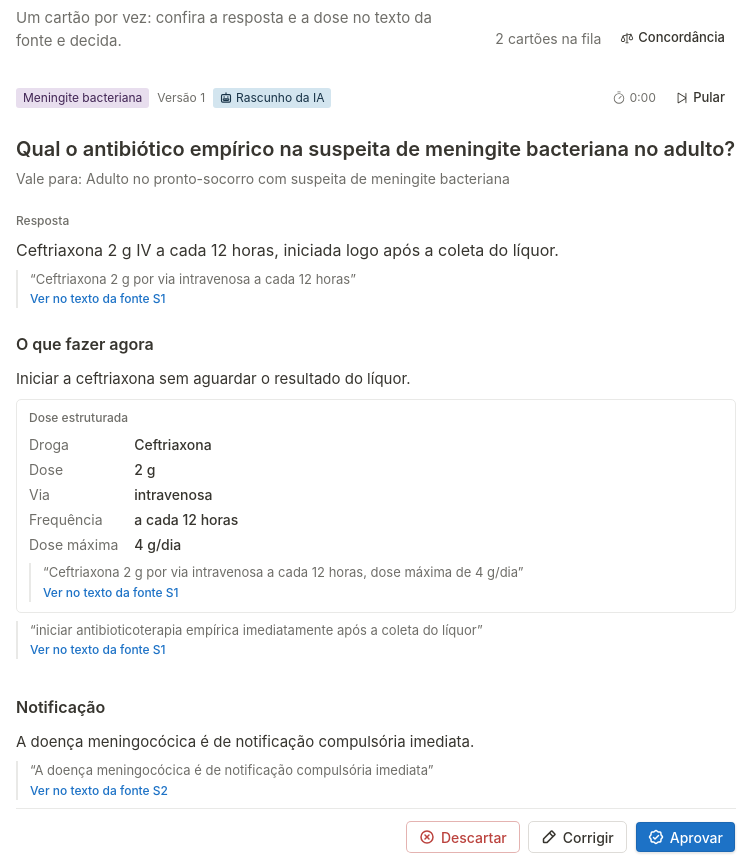
Test: Revisão de cartões (CC-404) › avisa quando o texto da fonte mudou depois da citação
This screenshot has width=753, height=865.
Click the button "Ver no texto da fonte S2".
click(99, 791)  # box left=30, top=783, right=168, bottom=800
(page scrolled)
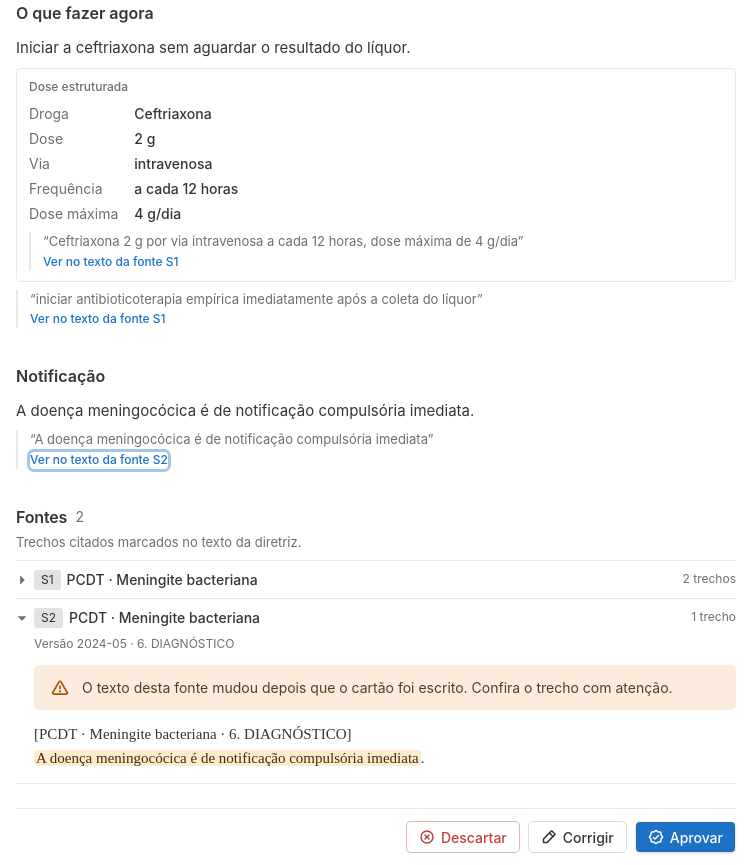
expect the text "O texto desta fonte mudou depois que o cartão foi escrito" is shown: met, box left=82, top=679, right=673, bottom=696
